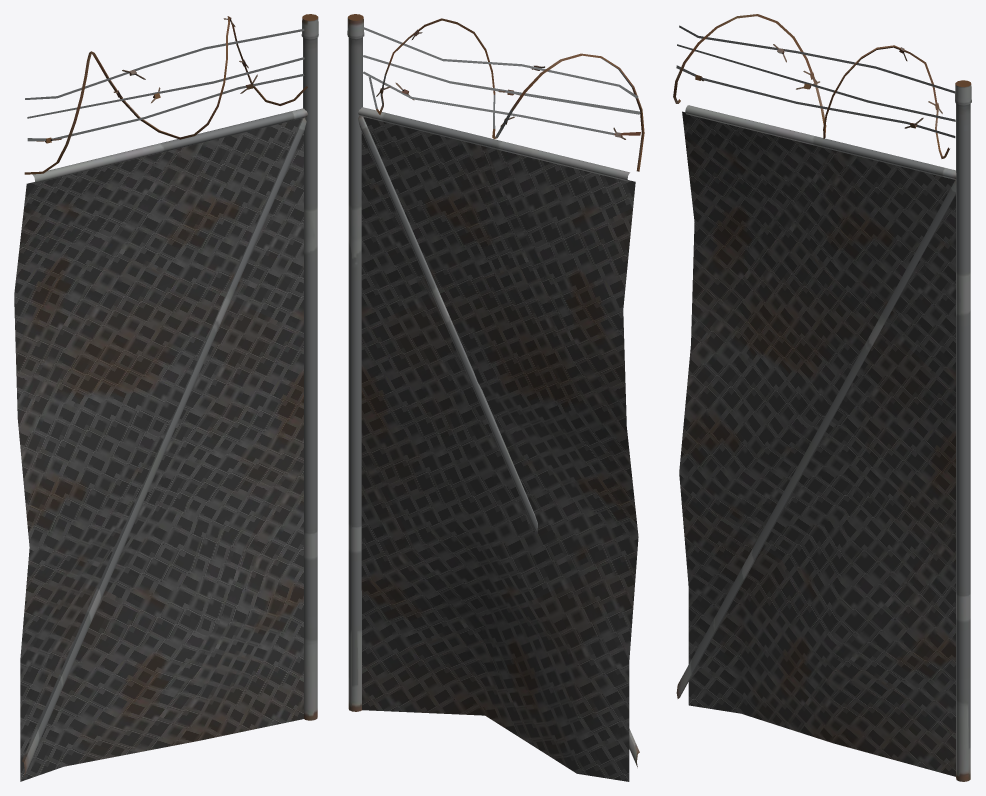
3 renders of one model, left to right at view 1: azimuth 30°, elevation 25°; view 2: azimuth 150°, elevation 25°; view 3: azimuth 330°, elevation 25°, orthographic.
Visible parts, largest first — view 1: body0_model0_lod0_mesh1, body0_model0_lod0_mesh0; view 2: body0_model0_lod0_mesh1, body0_model0_lod0_mesh0; view 3: body0_model0_lod0_mesh1, body0_model0_lod0_mesh0.
Part boxes in pixels (x1,y1,x2,y2): body0_model0_lod0_mesh1: (14, 118, 303, 781); body0_model0_lod0_mesh0: (22, 14, 318, 776); body0_model0_lod0_mesh1: (361, 117, 638, 781); body0_model0_lod0_mesh0: (347, 14, 644, 767); body0_model0_lod0_mesh1: (679, 111, 955, 776); body0_model0_lod0_mesh0: (673, 14, 971, 781).
Size of the model in its own units: 130 by 303 by 34.55.
2 materials, 2 textured.
